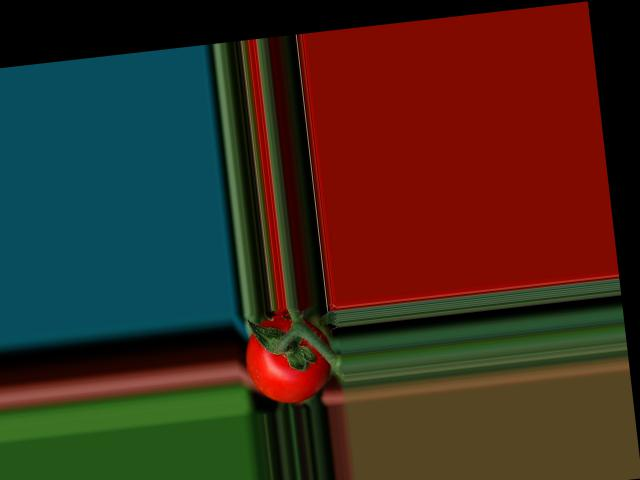tomato: (240, 306, 336, 407)
